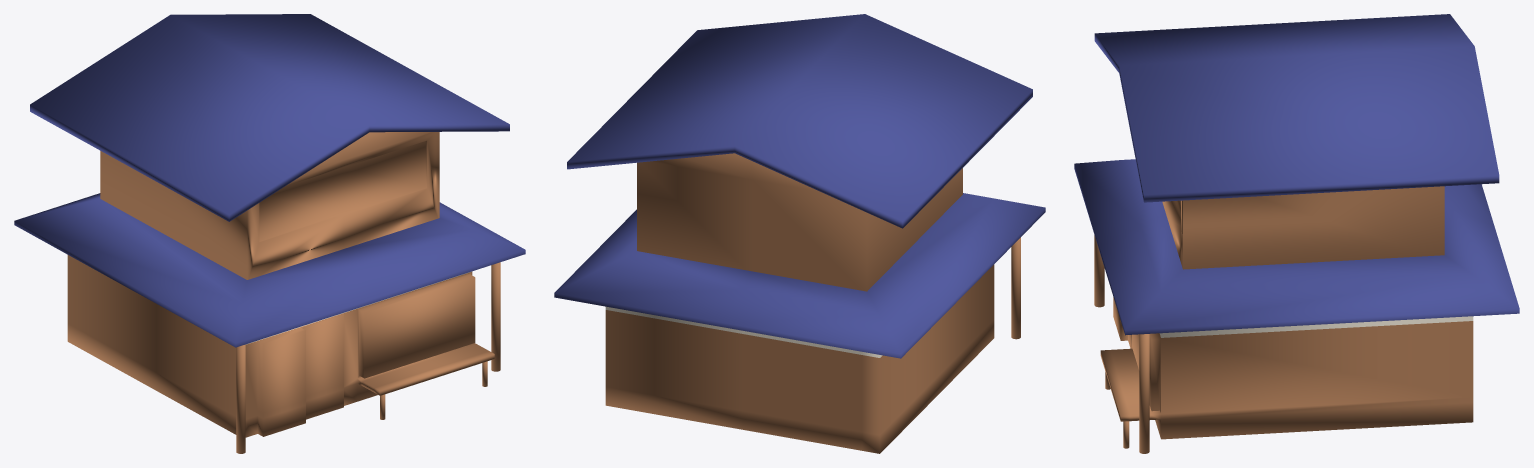
The model's file is 056_古民家018.glb.
3 renders of one model, left to right at view 1: azimuth 30°, elevation 25°; view 2: azimuth 150°, elevation 25°; view 3: azimuth 270°, elevation 25°, orthographic. The views are drawn at different scales.
Parts seen in each view (by area): view 1: 立方体094_1, 立方体094_3, 立方体094_4, 立方体094; view 2: 立方体094_1, 立方体094_3, 立方体094_2, 立方体094; view 3: 立方体094_1, 立方体094_3, 立方体094, 立方体094_2, 立方体094_4.
Boxes of the visible parts, <box> form: 立方体094_1: <box>14,14,525,347</box>; 立方体094_3: <box>67,132,494,437</box>; 立方体094_4: <box>257,141,475,436</box>; 立方体094: <box>236,262,500,453</box>; 立方体094_1: <box>554,14,1045,358</box>; 立方体094_3: <box>605,153,994,453</box>; 立方体094_2: <box>605,306,882,357</box>; 立方体094: <box>1011,237,1020,339</box>; 立方体094_1: <box>1074,14,1519,335</box>; 立方体094_3: <box>1100,186,1473,439</box>; 立方体094: <box>1094,235,1151,453</box>; 立方体094_2: <box>1159,316,1473,337</box>; 立方体094_4: <box>1113,200,1180,411</box>.
Size of the model in its own units: 3.2 by 2.53 by 3.2.
